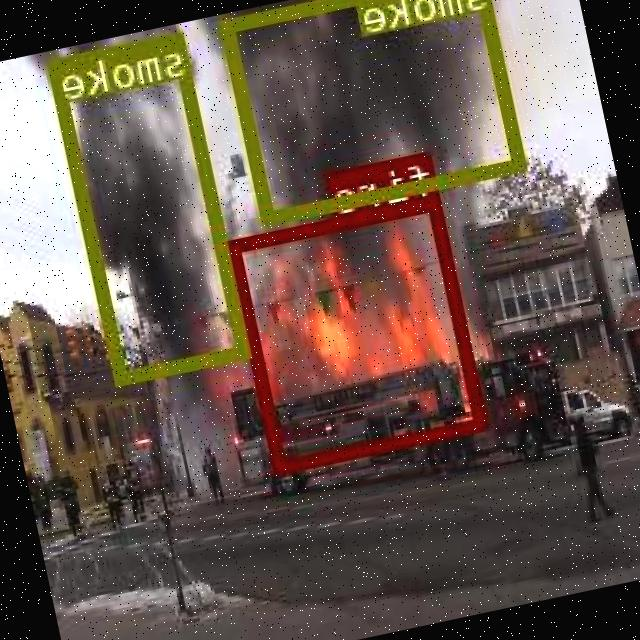fire: (228, 192, 490, 470)
smoke: (48, 28, 254, 383), (222, 0, 529, 222)
